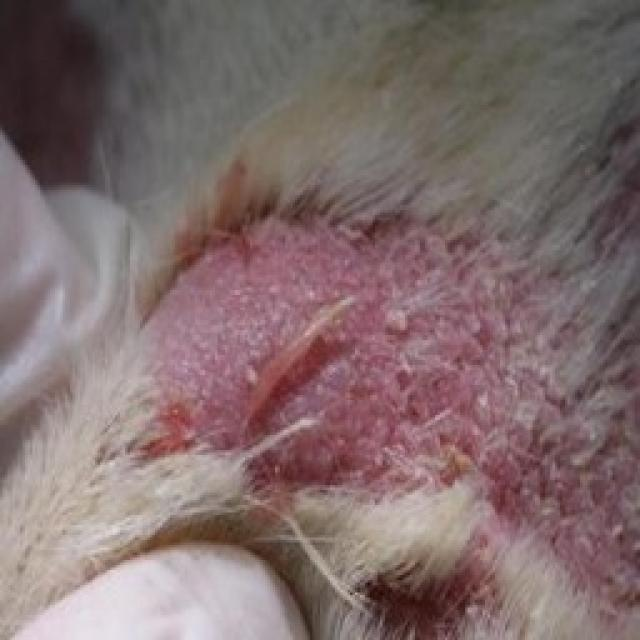hotspot: (162, 243, 548, 502)
